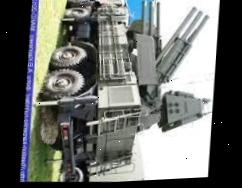truck: (34, 0, 148, 171), (56, 152, 153, 185)
